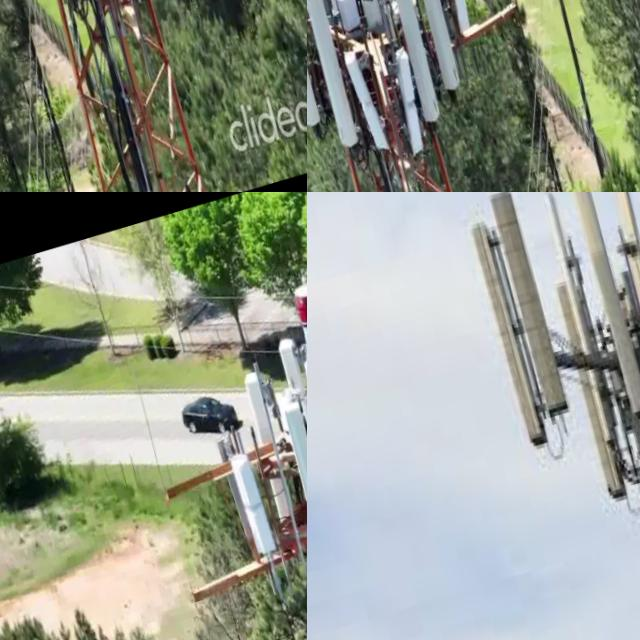GSM Antenna: (456, 210, 569, 449), (475, 192, 589, 419), (544, 270, 640, 504), (548, 192, 640, 423), (226, 358, 307, 525), (590, 192, 640, 430), (377, 0, 461, 135), (307, 0, 379, 153), (391, 0, 483, 104), (223, 447, 296, 571), (263, 393, 307, 593), (339, 41, 404, 161), (384, 47, 443, 154), (307, 0, 338, 134), (268, 333, 307, 400), (429, 0, 489, 39)
